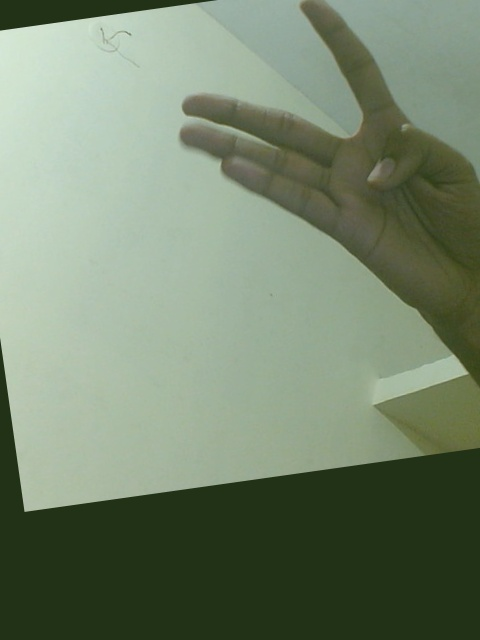hand: (169, 2, 480, 337)
